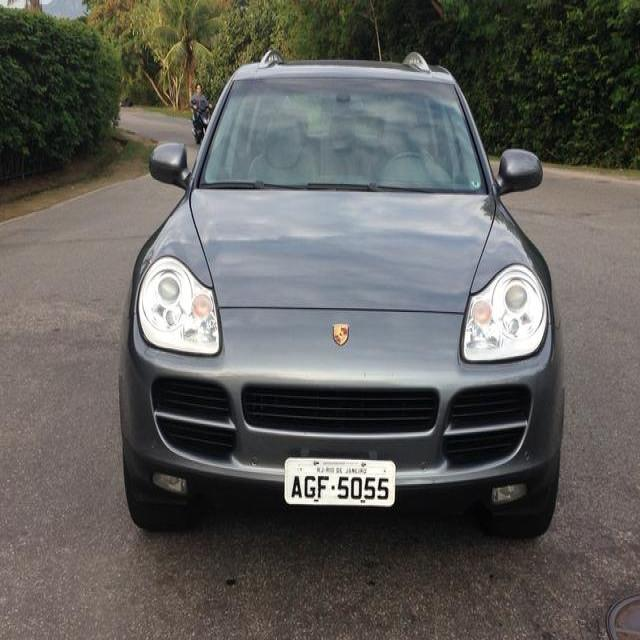Placa: (281, 453, 397, 511)
